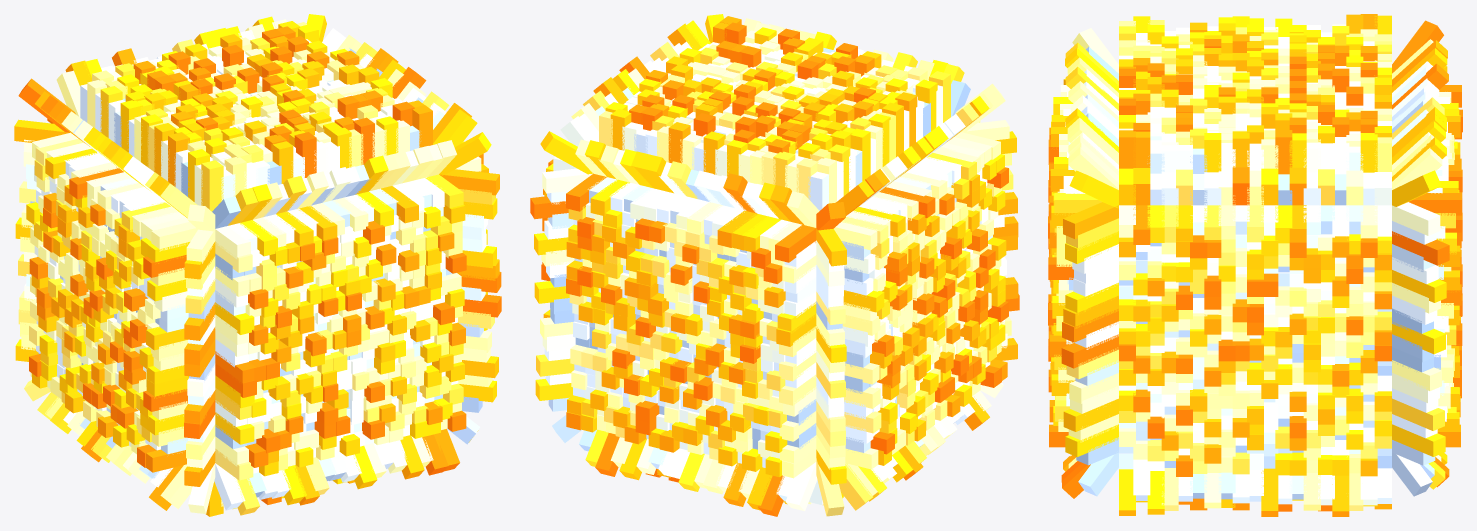
Rendered from layered.glb.
The picture shows the model from 3 angles, left to right: view 1: azimuth 30°, elevation 25°; view 2: azimuth 150°, elevation 25°; view 3: azimuth 270°, elevation 25°; orthographic projection. The views are drawn at different scales.
Visible parts, largest first — view 1: con, cyl, box, sp; view 2: box, con, sp, cyl; view 3: con, box, sp, cyl.
Boxes of the visible parts, left/top/right/bottom form: con: left=26, top=72, right=501, bottom=489; cyl: left=110, top=130, right=361, bottom=516; box: left=14, top=28, right=426, bottom=401; sp: left=224, top=14, right=361, bottom=52; box: left=583, top=48, right=846, bottom=516; con: left=650, top=14, right=971, bottom=510; sp: left=530, top=102, right=670, bottom=480; cyl: left=822, top=43, right=1019, bottom=430; con: left=1048, top=14, right=1391, bottom=515; box: left=1190, top=20, right=1462, bottom=516; sp: left=1332, top=111, right=1462, bottom=516; cyl: left=1048, top=16, right=1207, bottom=361.
Size of the model in its own units: 29.2 by 29.2 by 29.2.
